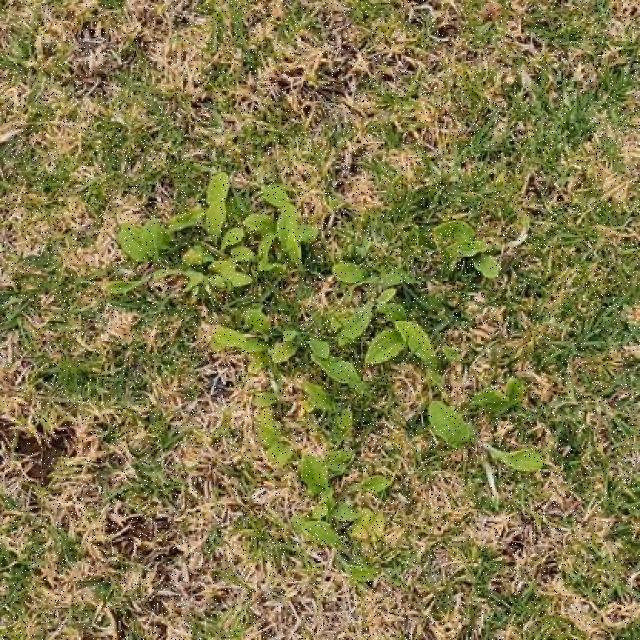weed: (212, 262, 451, 396), (108, 172, 318, 295), (432, 223, 500, 279), (307, 385, 354, 442), (257, 394, 292, 461), (432, 402, 477, 449), (486, 447, 546, 473)
